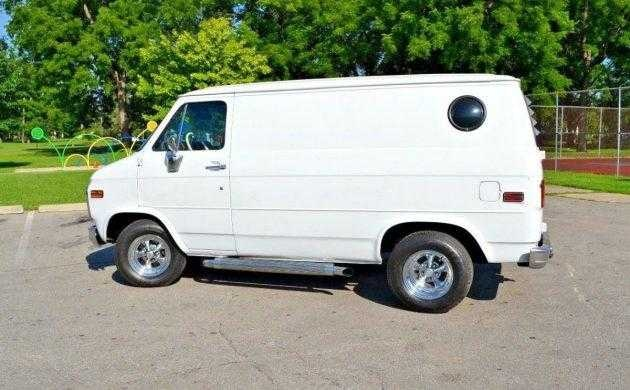van: (86, 73, 553, 313)
